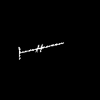treble_crochet: (19, 43, 62, 58)
